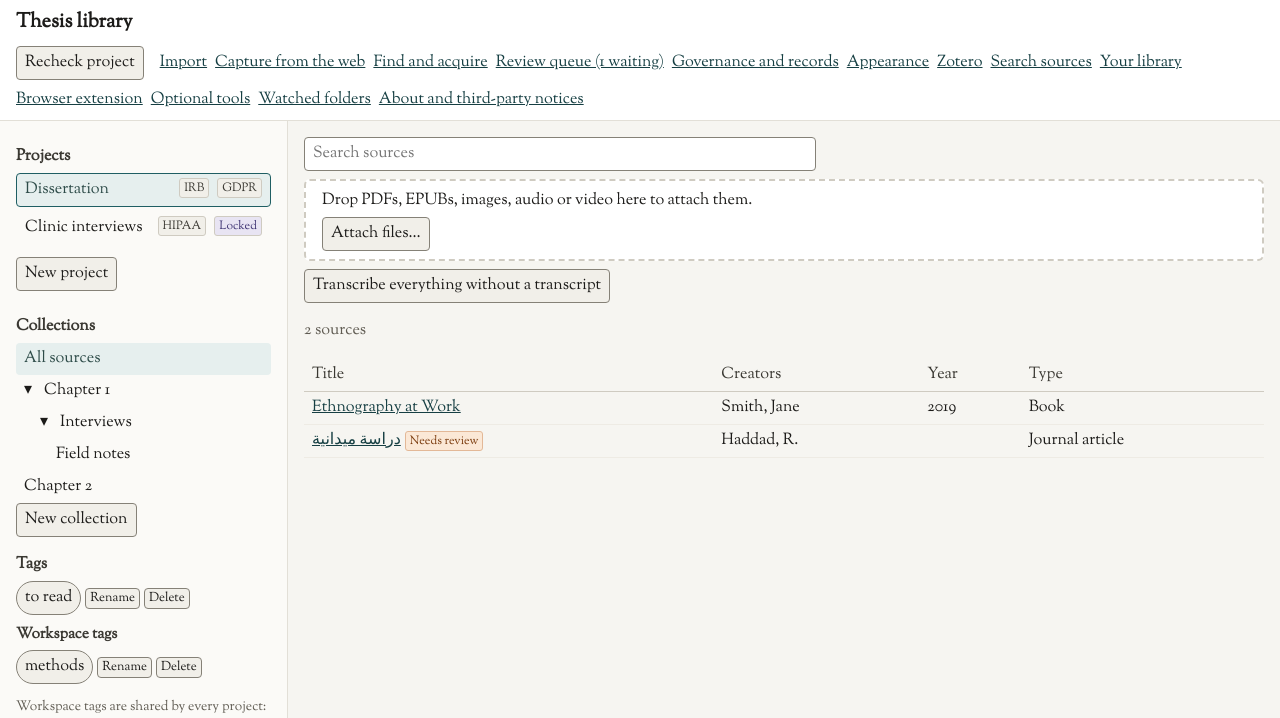
Test: Recheck project (R99) › a job whose events arrive before its start is answered still finishes (no stuck progress)
Expected: the table named "Sources" is shown, [304,359,1264,458]
Click the button "Recheck project".
click(80, 63)  # box [16,46,144,80]
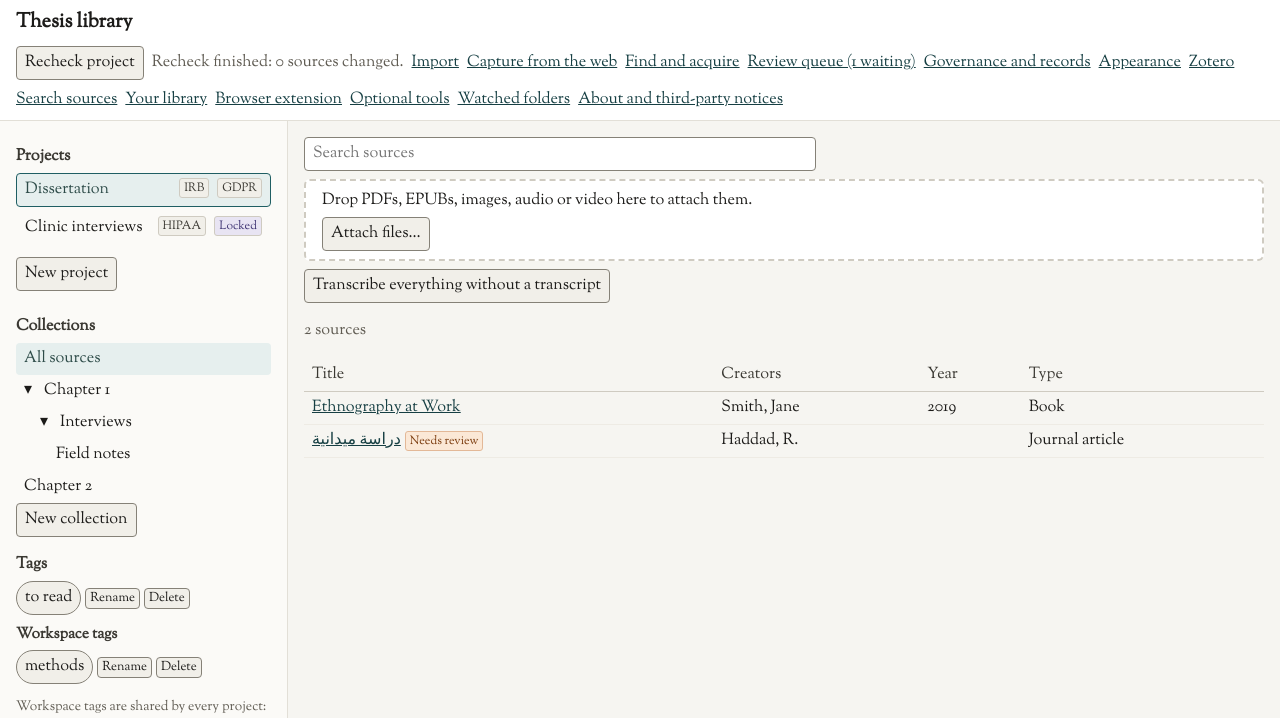
Expected: the message named "Project recheck" shows "Recheck finished", [152,51,404,74]
